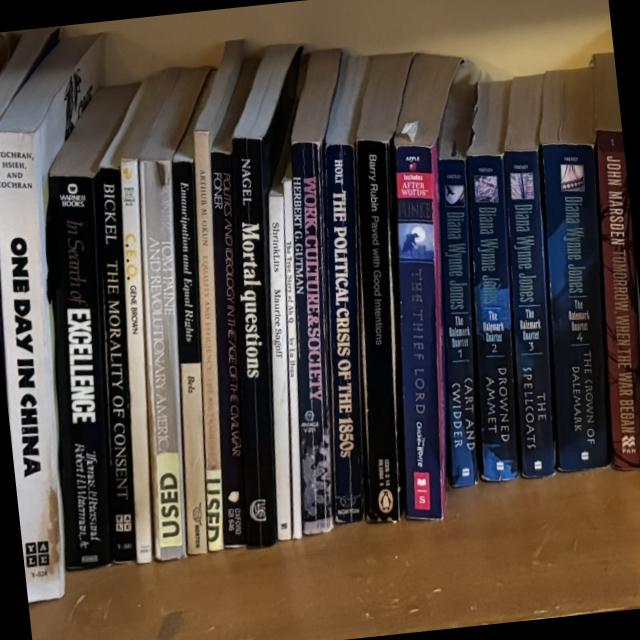book: (0, 28, 104, 603), (29, 81, 135, 570), (81, 65, 178, 563), (211, 41, 302, 548), (121, 65, 207, 561), (382, 54, 459, 519), (175, 37, 244, 551), (346, 52, 413, 522), (536, 67, 610, 472), (200, 55, 258, 548), (284, 48, 342, 535), (320, 55, 369, 522), (501, 75, 556, 478), (465, 80, 518, 481), (436, 61, 480, 487), (170, 102, 208, 554), (94, 166, 136, 562), (595, 129, 640, 469), (265, 169, 294, 540), (281, 162, 303, 539)
